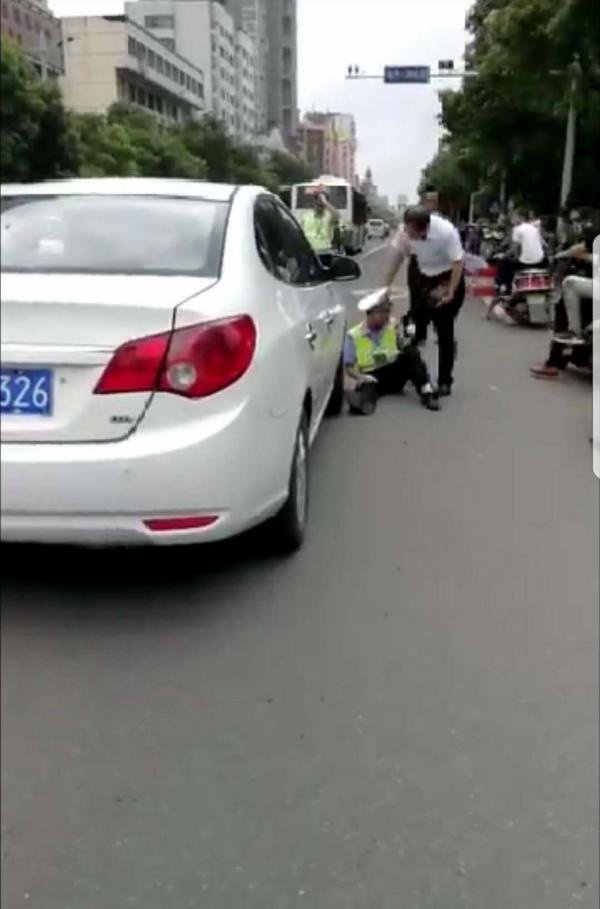falling: (339, 269, 441, 426)
